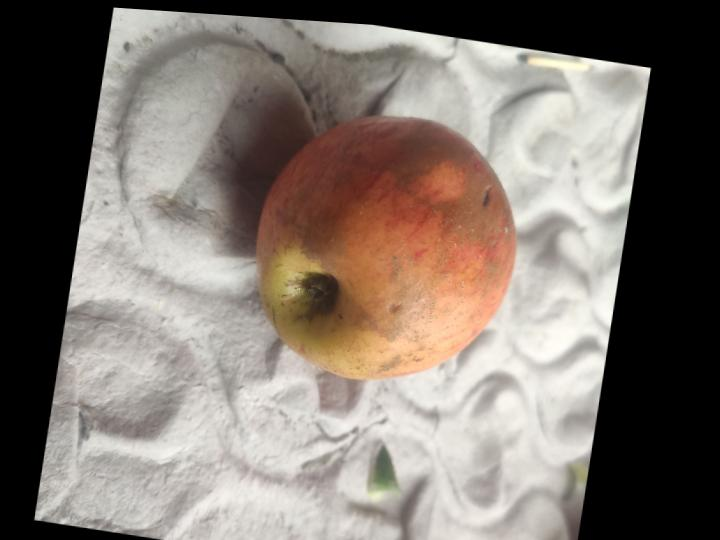apple: (256, 117, 515, 379)
bruise_discoloration: (352, 116, 514, 375)
surface_damage: (481, 188, 489, 207)
